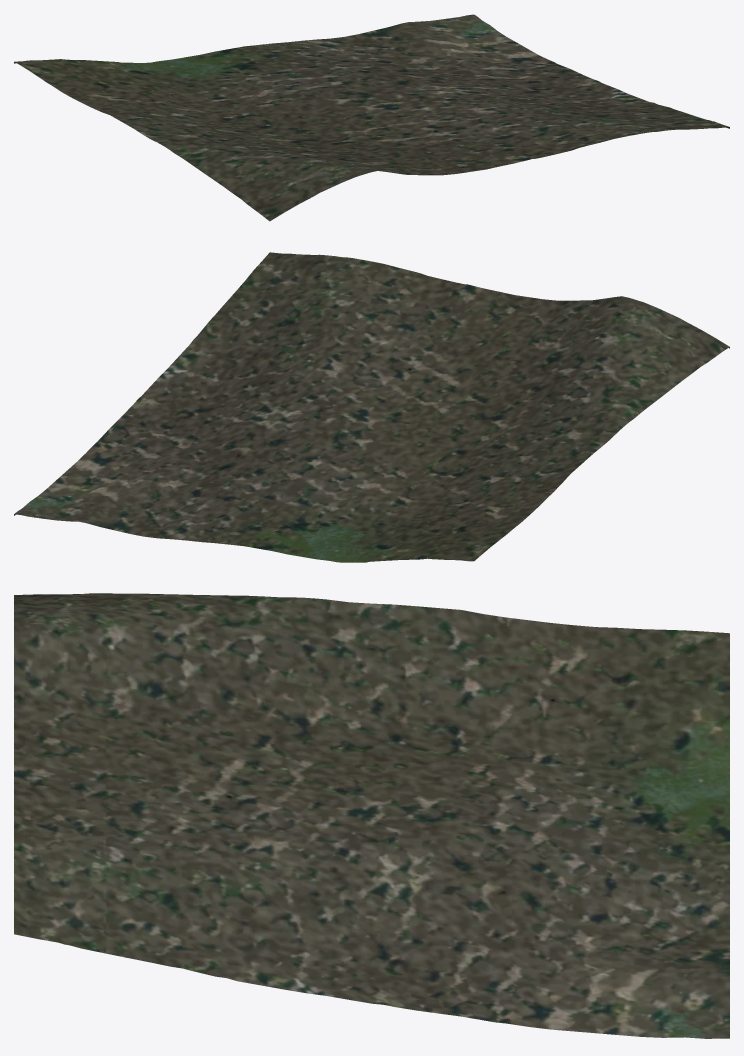
3 views of the same model, one above another, from view 1: azimuth 30°, elevation 25°; view 2: azimuth 150°, elevation 25°; view 3: azimuth 270°, elevation 25° (orthographic). The views are drawn at different scales.
Bounding box in the file's own units: 250 × 61.77 × 241.
1 material, 1 textured.
